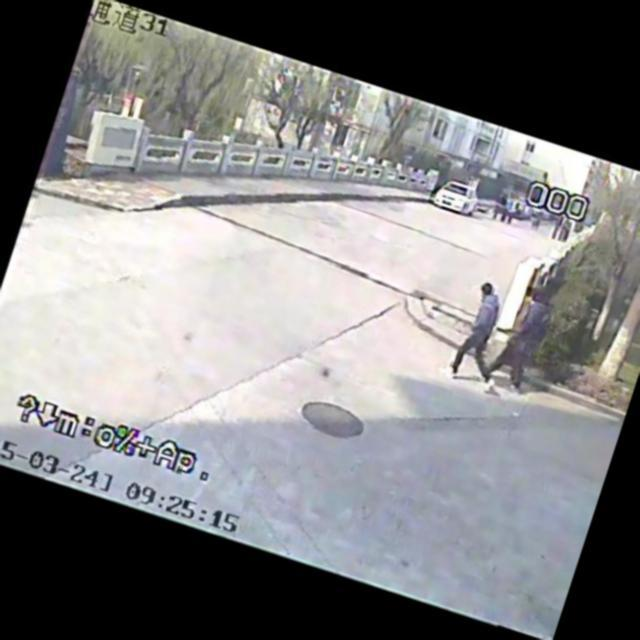person: (474, 278, 568, 408), (436, 272, 526, 398)
